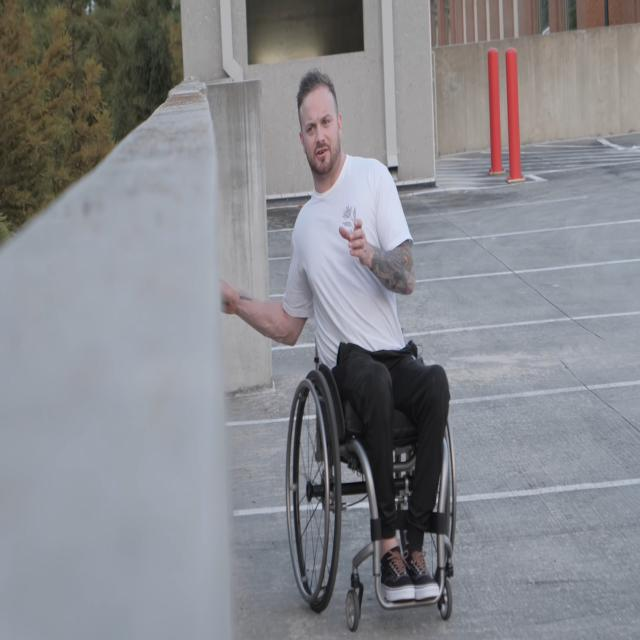wheelchairs: (284, 264, 458, 636)
